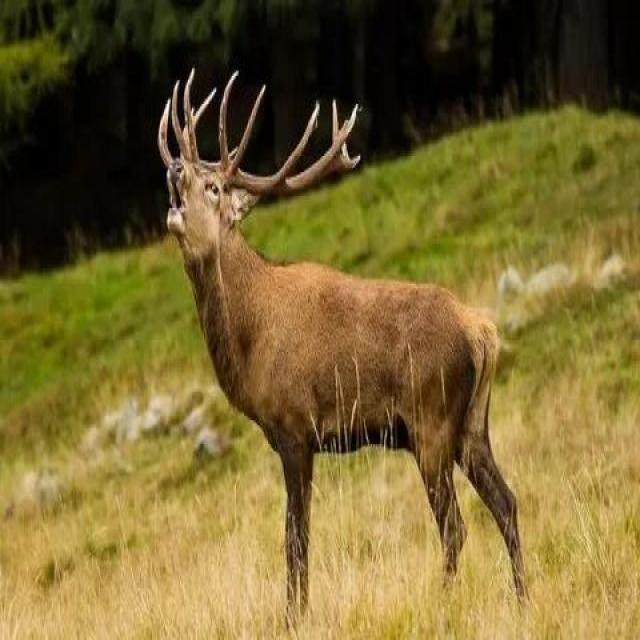deer: (144, 38, 548, 618)
